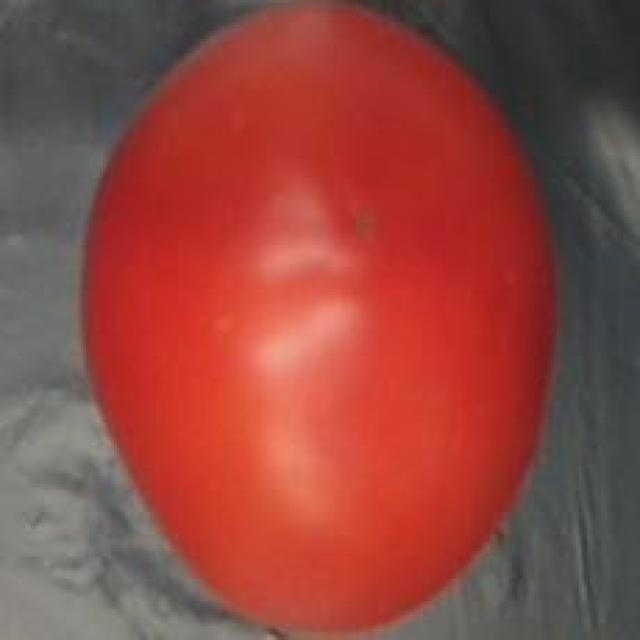ripe tomato: (67, 0, 576, 640)
